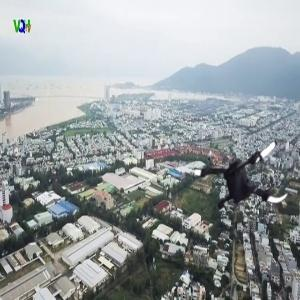drone: (185, 125, 294, 234)
